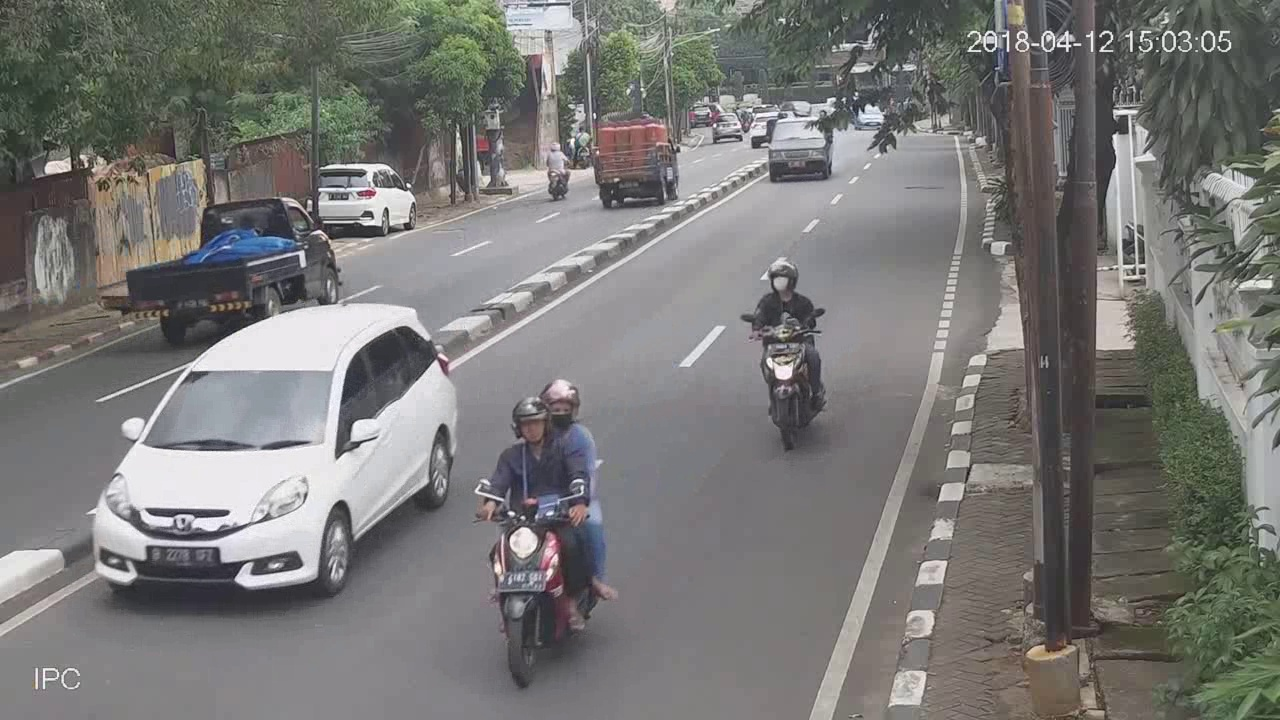car: (86, 299, 459, 597), (304, 159, 418, 240), (769, 115, 834, 186)
motorcycle: (470, 374, 622, 685), (738, 251, 833, 454), (542, 136, 572, 204)
truck: (118, 196, 339, 343), (588, 114, 683, 210)
